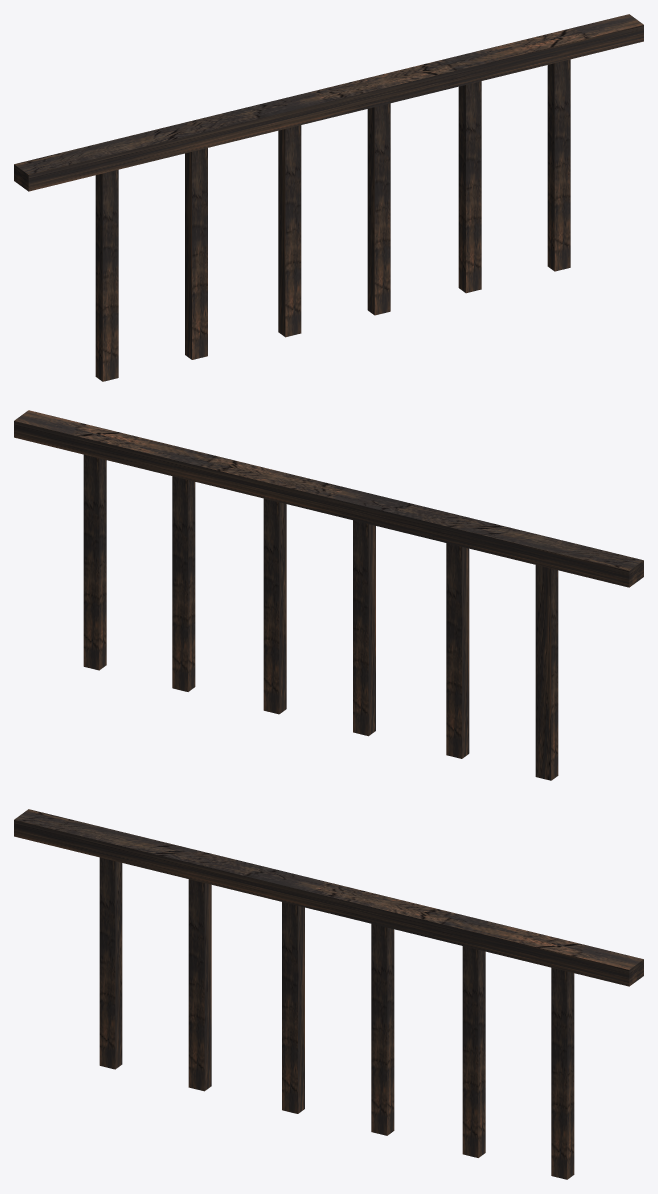
Rendered from SB_Rail.fbx.
3 views of the same model, one above another, from view 1: azimuth 30°, elevation 25°; view 2: azimuth 150°, elevation 25°; view 3: azimuth 330°, elevation 25° (orthographic).
Parts seen in each view (by area): view 1: SB_Railing_1.002; view 2: SB_Railing_1.002; view 3: SB_Railing_1.002.
Part boxes in pixels (x1,y1,x2,y2): SB_Railing_1.002: [14, 14, 643, 381]; SB_Railing_1.002: [14, 410, 643, 780]; SB_Railing_1.002: [14, 809, 643, 1179].
Bounding box in the file's own units: 563 × 202 × 23.22.
